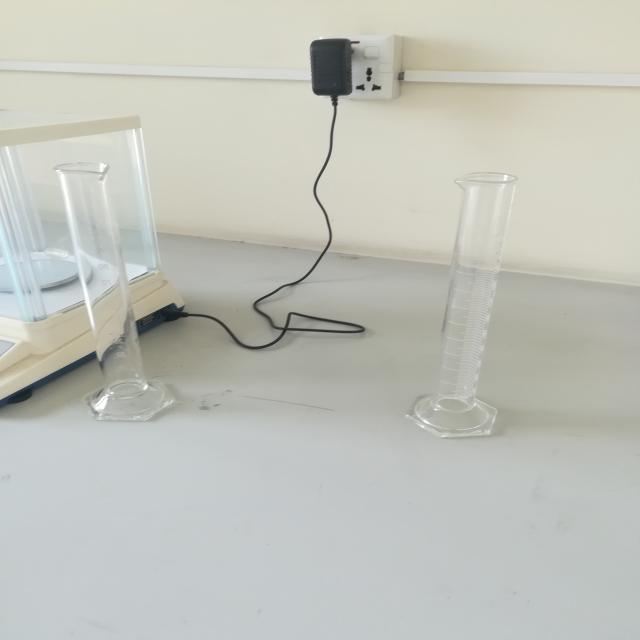Measuring_Cylinder: (379, 138, 567, 460), (44, 125, 224, 438)
